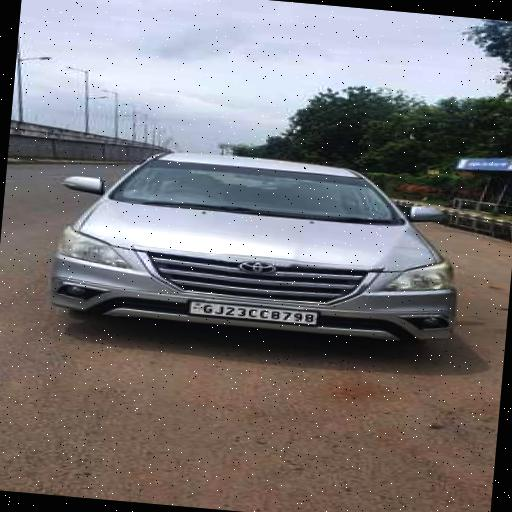license_plate`: (184, 300, 318, 326)
